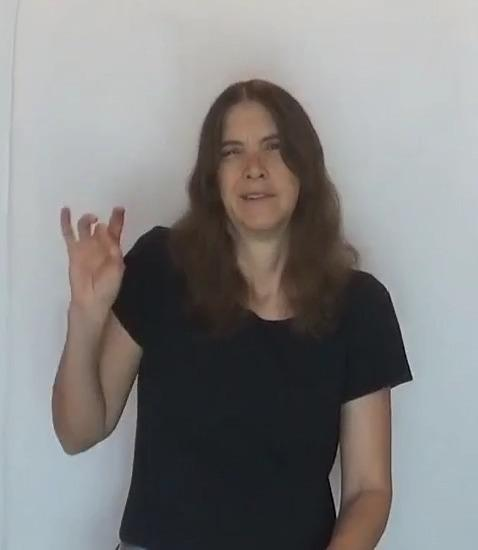Dolor: (45, 62, 444, 494)
